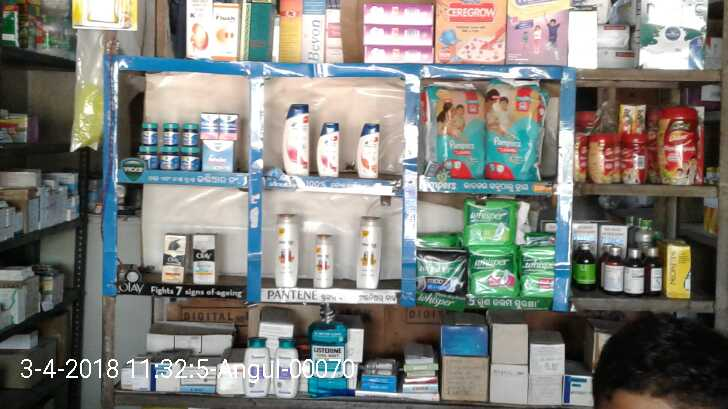vicks: (135, 109, 242, 171)
